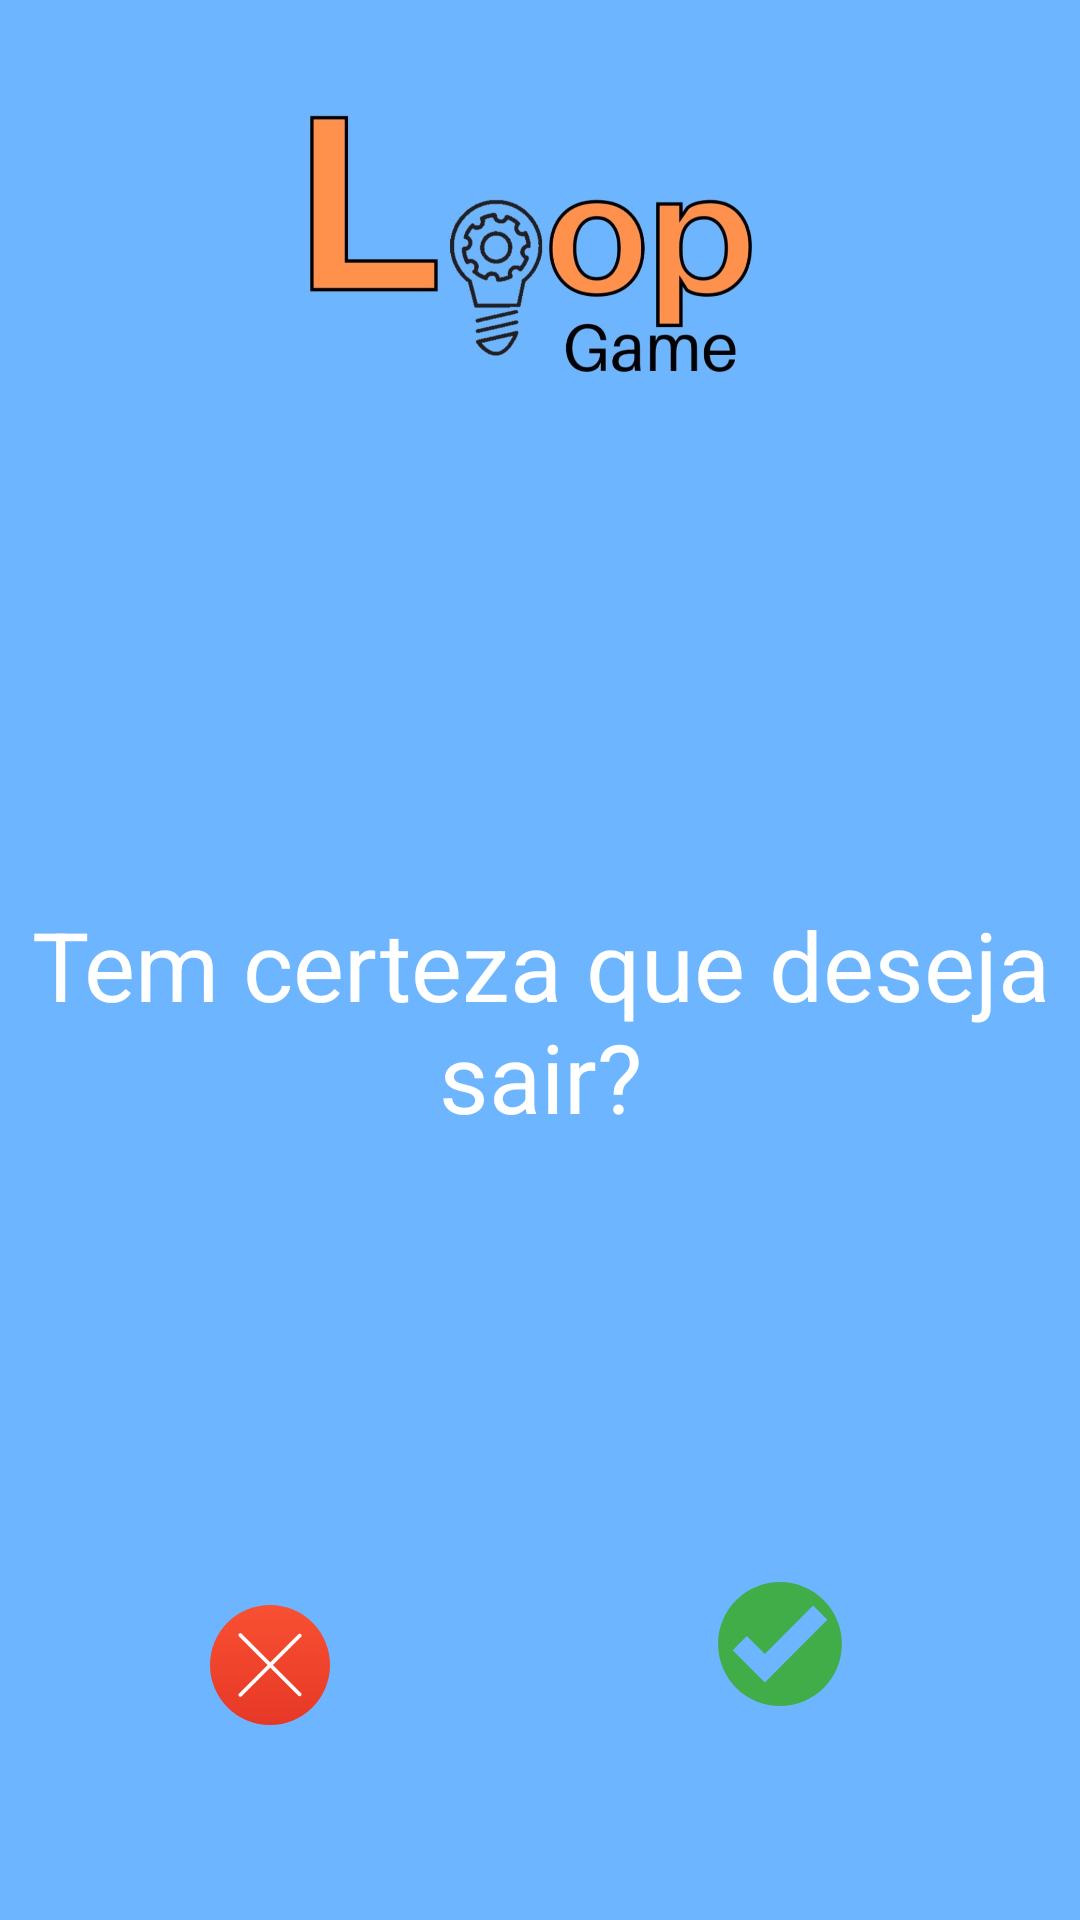

Where to tap for icons on this 1080*1920 app screen, as [x,y]:
cancel: [270,1665]
correct: [780,1644]
